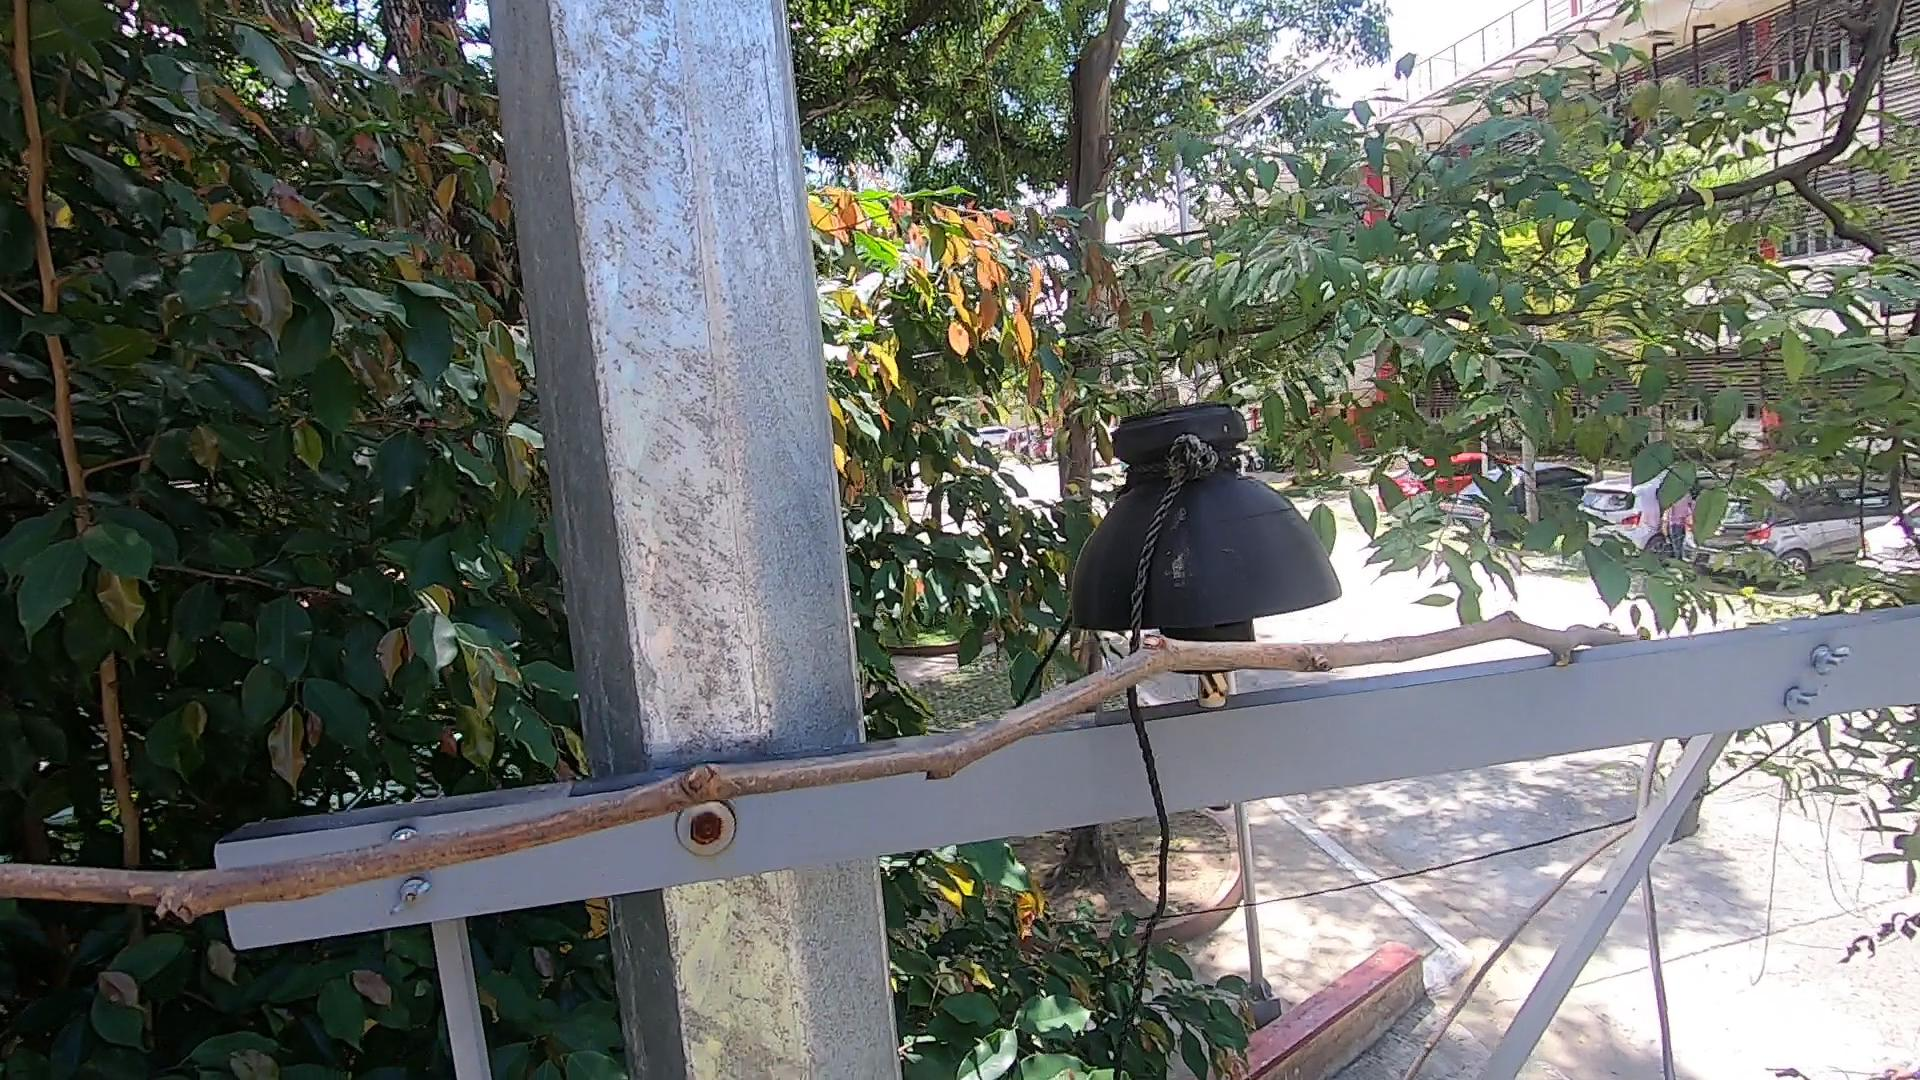tree branch: (1, 618, 1656, 935), (1385, 744, 1663, 1077), (1644, 877, 1685, 1080)
